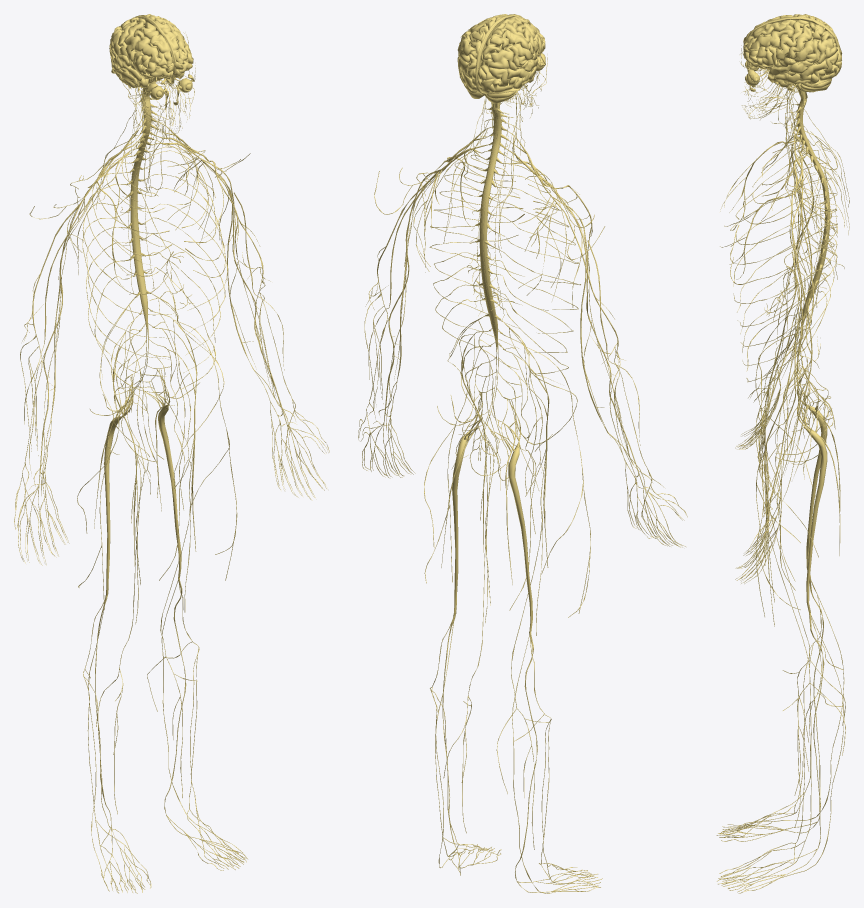
Rendered from nervous.glb.
3 renders of one model, left to right at view 1: azimuth 30°, elevation 25°; view 2: azimuth 150°, elevation 25°; view 3: azimuth 270°, elevation 25°, orthographic. The views are drawn at different scales.
Parts seen in each view (by area): view 1: nervous; view 2: nervous; view 3: nervous.
Boxes of the visible parts, x1,y1,x2,y2 form: nervous: [14, 14, 329, 893]; nervous: [358, 14, 687, 893]; nervous: [716, 14, 849, 893].
Bounding box in the file's own units: 0.6674 × 1.69 × 0.2427.
